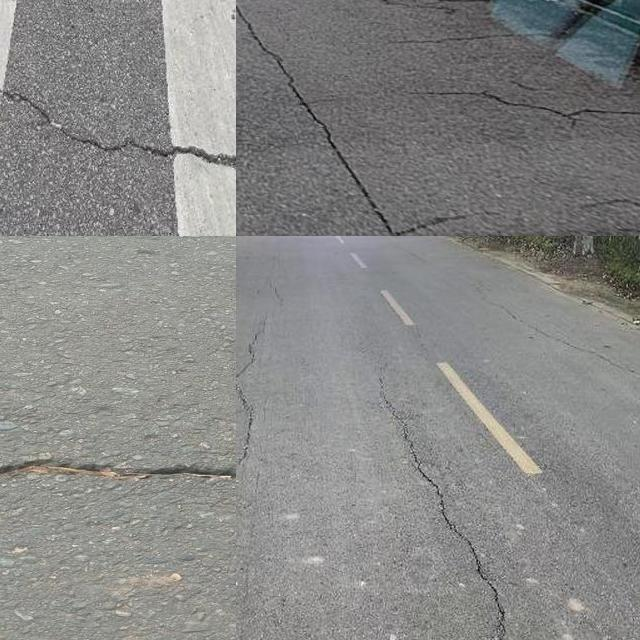Melintang: (0, 64, 236, 197), (0, 447, 236, 499)
Memanjang: (236, 0, 414, 236), (364, 376, 520, 640), (236, 290, 291, 503)
